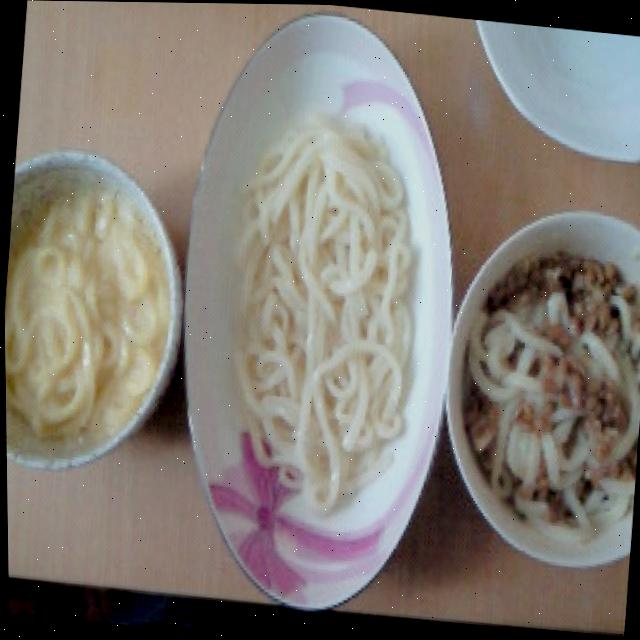面条主食: (40, 214, 363, 640), (365, 500, 630, 640)
